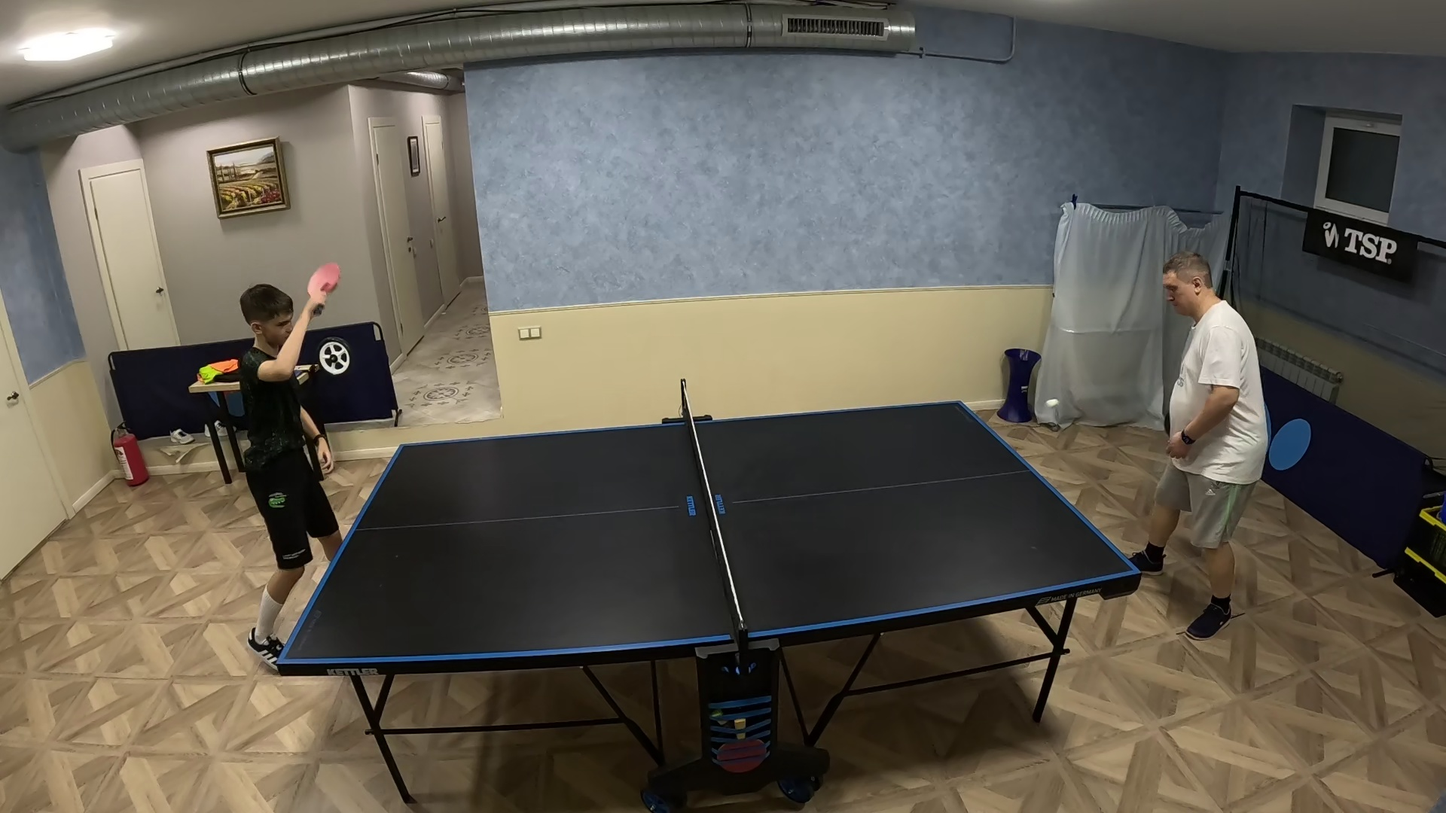Ball: (1042, 398, 1059, 407)
